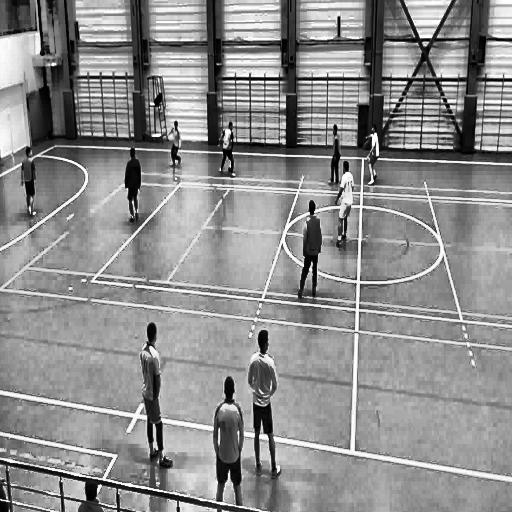ball: (227, 163, 232, 174)
